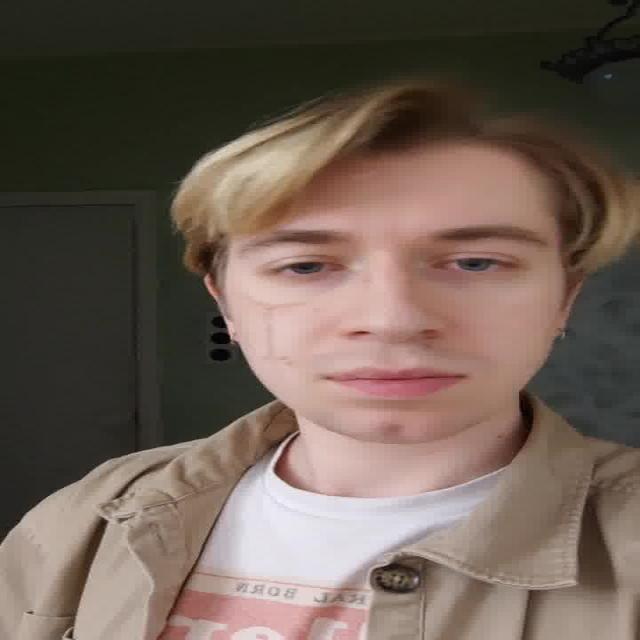eye: (442, 255, 516, 273), (272, 258, 343, 276)
nose: (339, 331, 448, 366)
wholeear: (202, 271, 236, 344), (556, 273, 586, 339)
